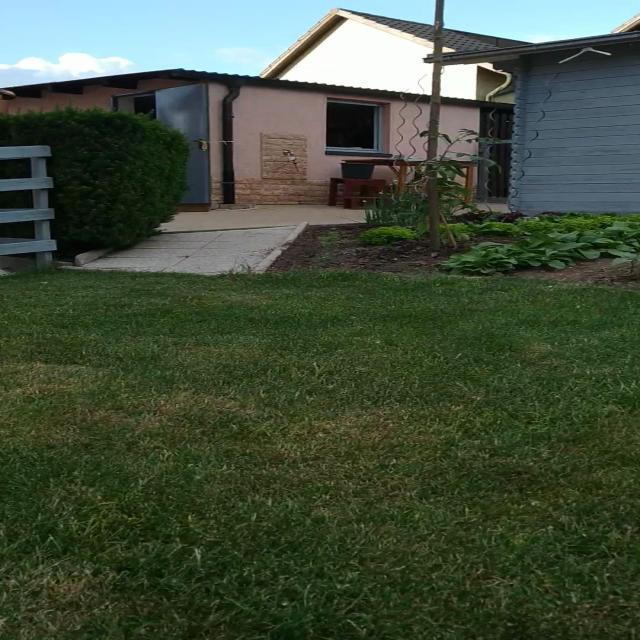lawn: (0, 271, 640, 640)
